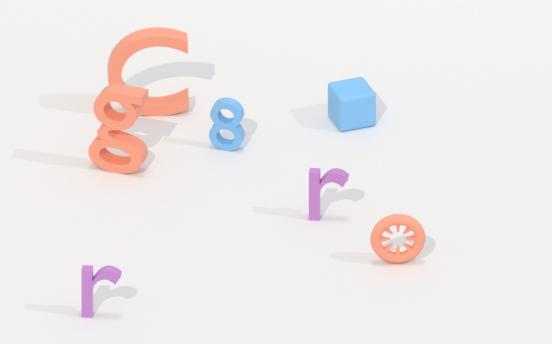8: (204, 95, 249, 153)
R: (80, 263, 129, 319), (306, 166, 355, 222)
c: (100, 25, 202, 119)
g: (84, 86, 155, 178)
hop: (323, 77, 382, 135)
tron: (368, 212, 428, 265)
